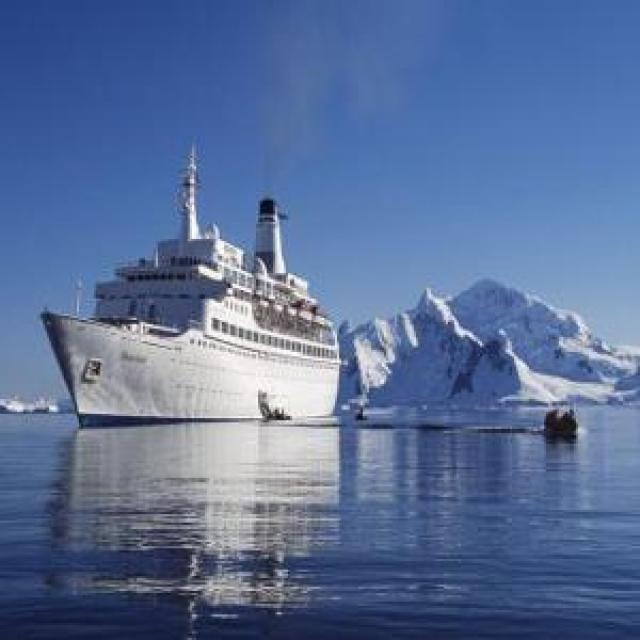passenger ship: (42, 186, 344, 423)
